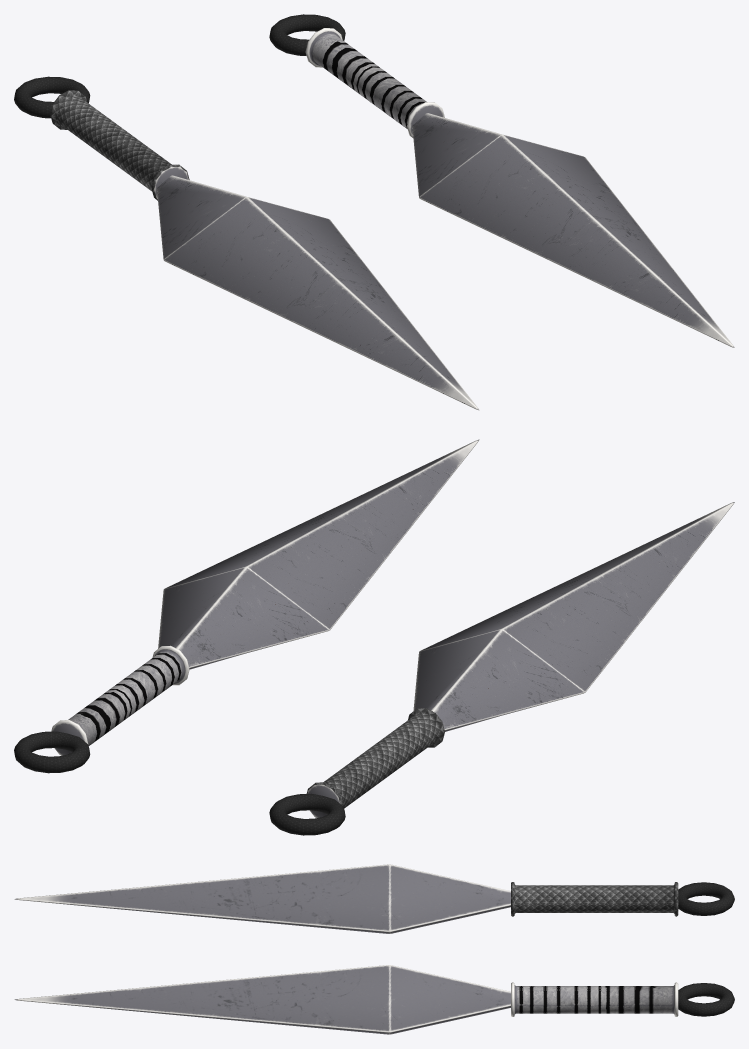
Rendered from kunai.fbx.
3 views of the same model, one above another, from view 1: azimuth 30°, elevation 25°; view 2: azimuth 150°, elevation 25°; view 3: azimuth 270°, elevation 25° (orthographic). The views are drawn at different scales.
Visible parts, largest first — view 1: MechNinjaSpider51_Low001, MechNinjaSpider51_Low; view 2: MechNinjaSpider51_Low, MechNinjaSpider51_Low001; view 3: MechNinjaSpider51_Low, MechNinjaSpider51_Low001.
Boxes of the visible parts, x1=… form: MechNinjaSpider51_Low001: x1=269, y1=14, x2=734, y2=347; MechNinjaSpider51_Low: x1=14, y1=76, x2=479, y2=410; MechNinjaSpider51_Low: x1=269, y1=502, x2=734, y2=835; MechNinjaSpider51_Low001: x1=14, y1=439, x2=479, y2=773; MechNinjaSpider51_Low: x1=14, y1=864, x2=734, y2=933; MechNinjaSpider51_Low001: x1=14, y1=965, x2=734, y2=1034.
Bounding box in the file's own units: 35.74 × 6.92 × 65.66.
Materials: 2 (2 with a texture image).
